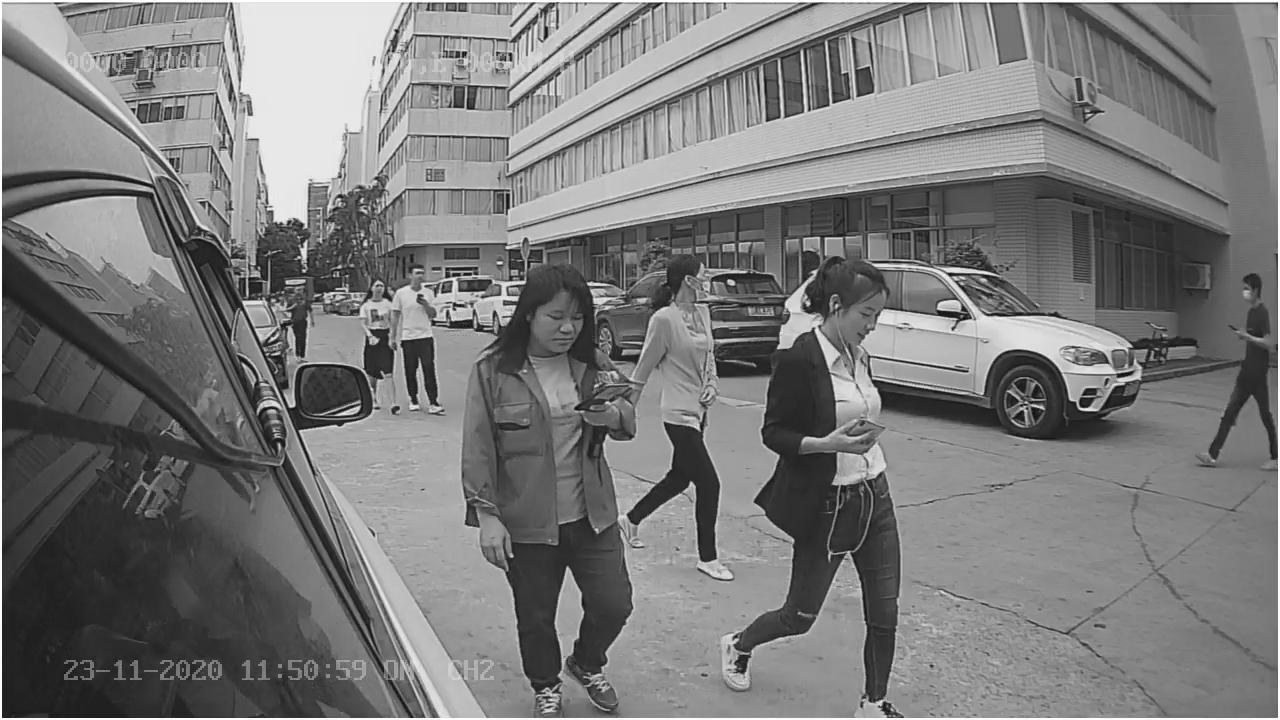person: (718, 247, 917, 716), (458, 265, 637, 563), (1196, 264, 1278, 471), (386, 251, 450, 416)
